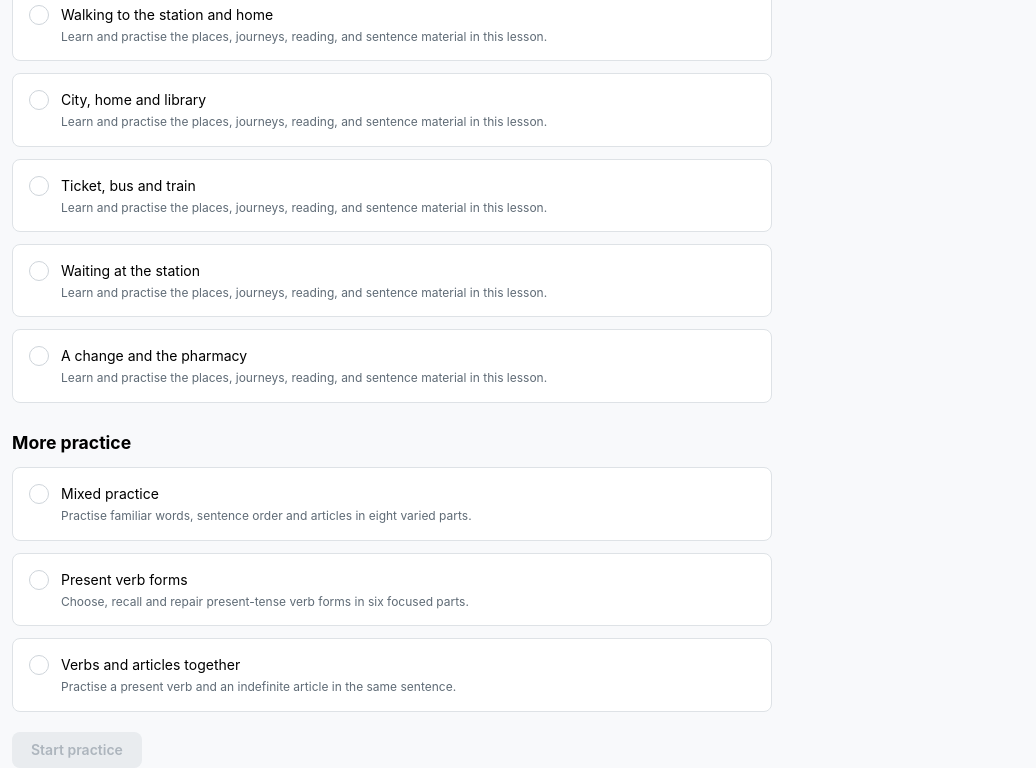
Test case: starts only the explicitly selected present-verb profile with its exact identity
(page scrolled)
Check: the radio button labelled "Mixed practice" is not checked, box [29, 484, 49, 504]
Check: the button "Start practice" is disabled, box [12, 732, 142, 767]
Click the radio button labelled "Present verb forms" at {"x": 39, "y": 580}, box [29, 570, 49, 590]
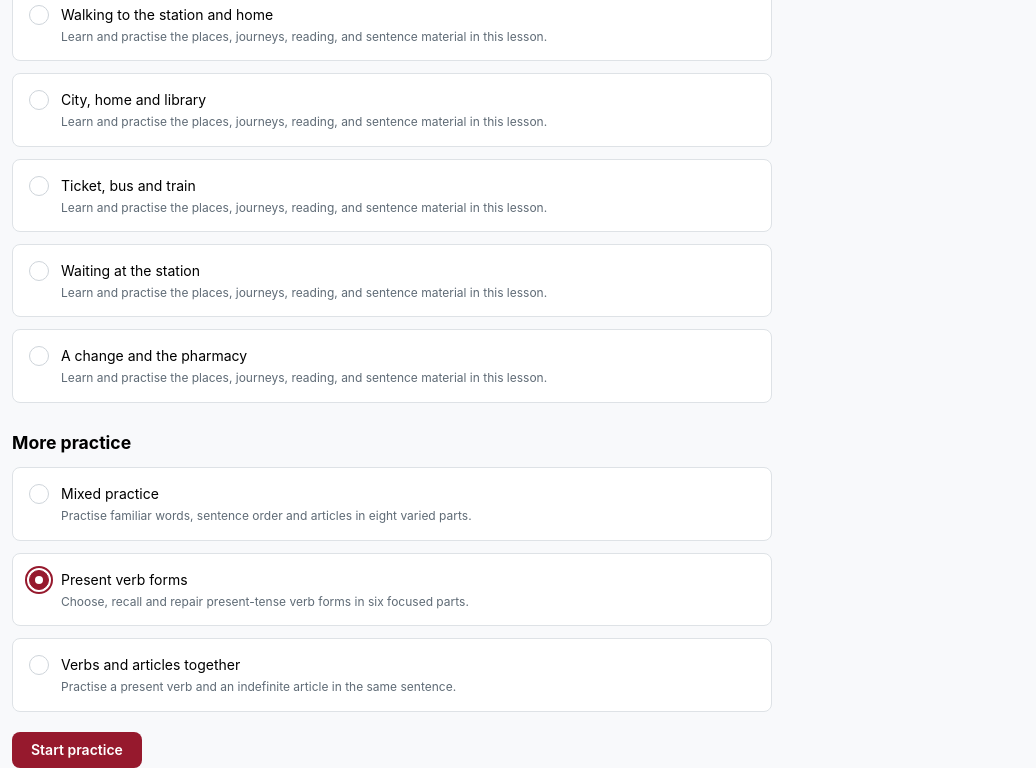
Click the button "Start practice" at {"x": 77, "y": 750}, box [12, 732, 142, 767]
(page scrolled)
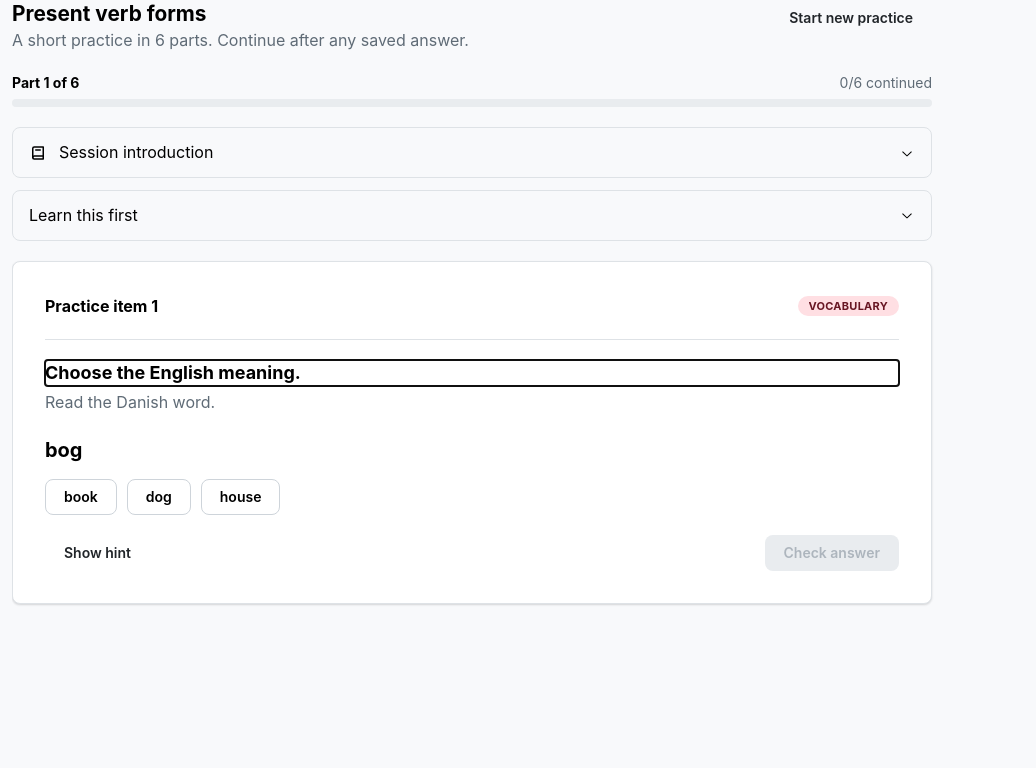
Check: the heading "Present verb forms" is shown, box [12, 1, 206, 26]
